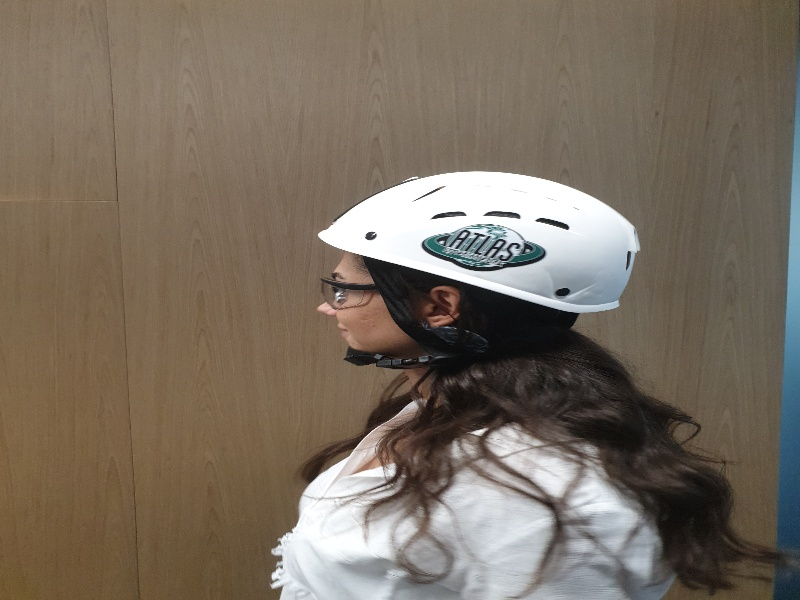Baret: (318, 166, 642, 275)
Gozluk: (314, 271, 401, 303)
